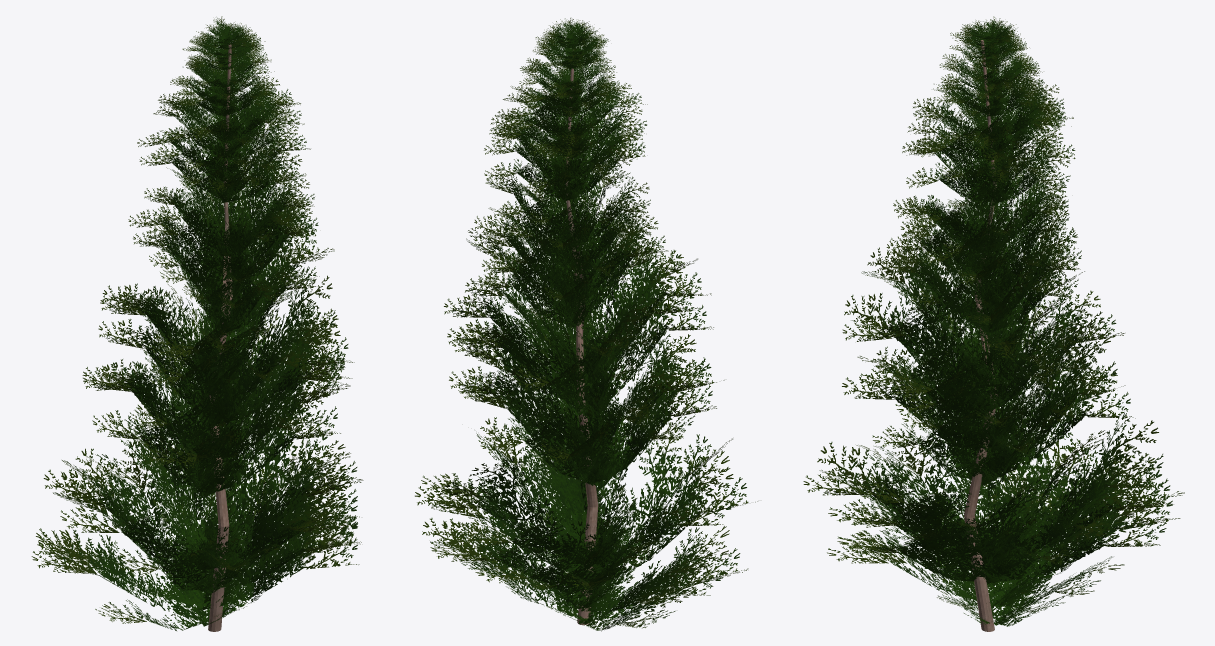
The model's file is SM_bush_04.glb.
3 renders of one model, left to right at view 1: azimuth 30°, elevation 25°; view 2: azimuth 150°, elevation 25°; view 3: azimuth 270°, elevation 25°, orthographic. The views are drawn at different scales.
Visible parts, largest first — view 1: SM_bush_04; view 2: SM_bush_04; view 3: SM_bush_04.
Boxes of the visible parts, x1=… form: SM_bush_04: x1=31, y1=16, x2=363, y2=631; SM_bush_04: x1=415, y1=18, x2=757, y2=631; SM_bush_04: x1=803, y1=16, x2=1184, y2=631.
Bounding box in the file's own units: 1.89 × 3.69 × 2.24.
2 materials, 2 textured.
